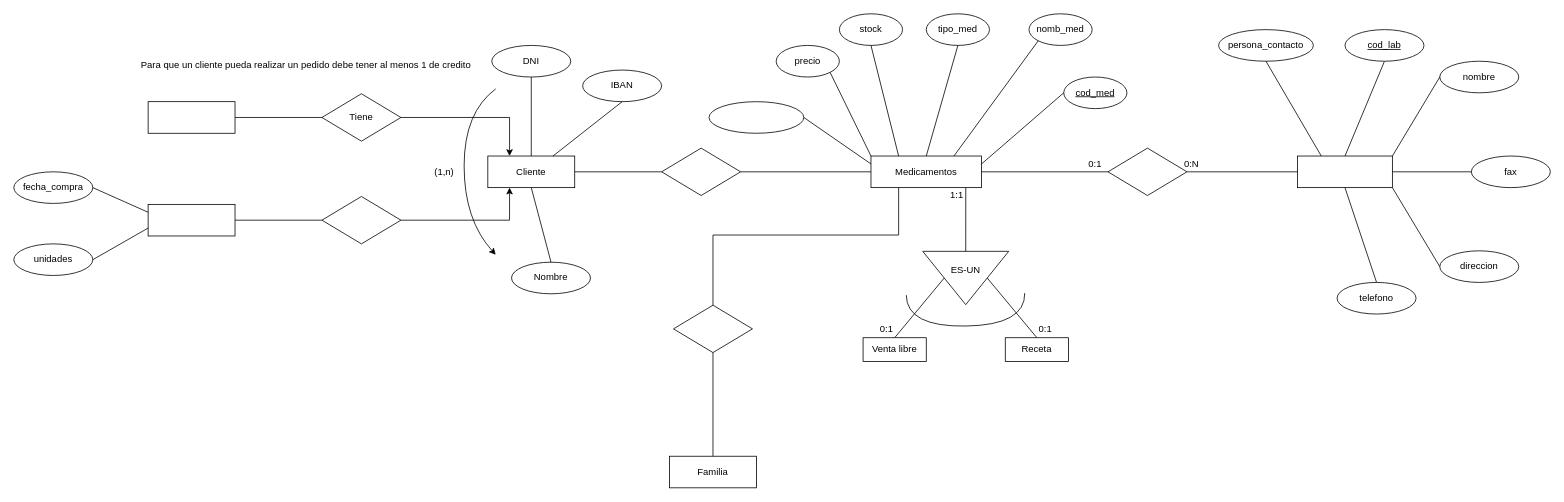
The diagram is 1564 pixels wide and 502 high, and some of its shapes have lost their labels. Each missing label, with the centre of its shape:
"Compra" goes at [701,171].
"Creditos" goes at [191,117].
"Fabrica" goes at [1147,171].
"Laboratorio" goes at [1344,171].
"Pedido" goes at [191,220].
"Pertenece" goes at [712,328].
"Realizar" goes at [361,220].
"unid_vendidas" goes at [756,117].
